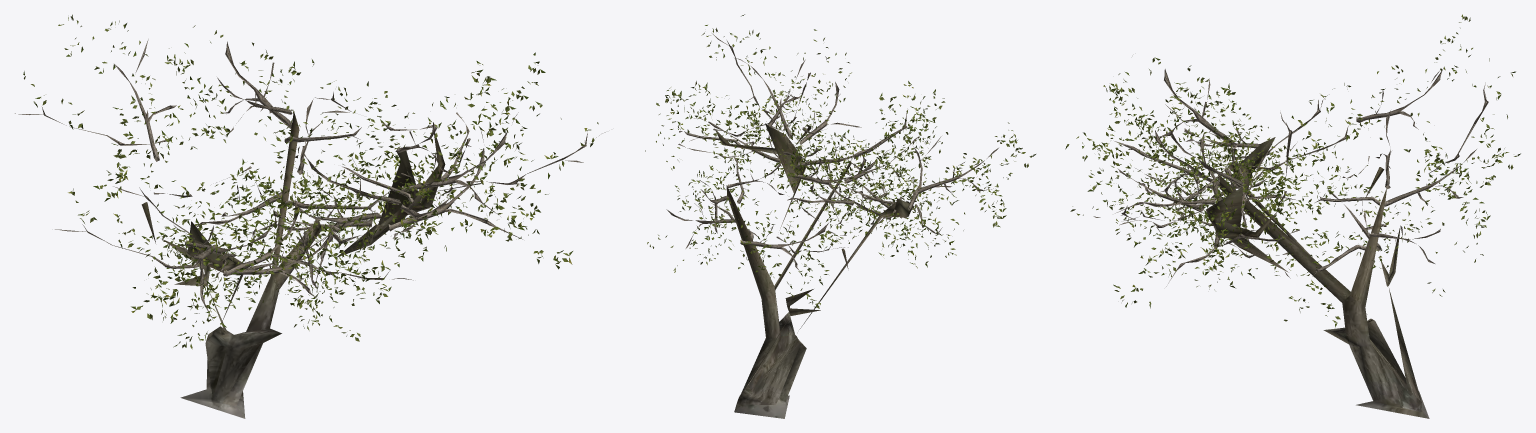
Rendered from island_tree_02.lod.glb.
3 renders of one model, left to right at view 1: azimuth 30°, elevation 25°; view 2: azimuth 150°, elevation 25°; view 3: azimuth 270°, elevation 25°, orthographic. The views are drawn at different scales.
Visible parts, largest first — view 1: island_tree_02_LOD0; view 2: island_tree_02_LOD0; view 3: island_tree_02_LOD0.
Part boxes in pixels (x1,y1,x2,y2): island_tree_02_LOD0: (15, 14, 605, 418); island_tree_02_LOD0: (645, 14, 1035, 418); island_tree_02_LOD0: (1065, 14, 1520, 418).
Bounding box in the file's own units: 4.03 × 3.33 × 4.03.
Materials: 3 (3 with a texture image).
